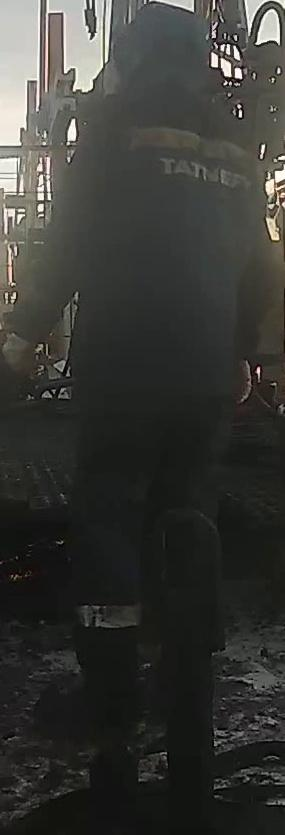gloves: (3, 328, 41, 392), (228, 349, 260, 414)
vest: (65, 102, 272, 422)
